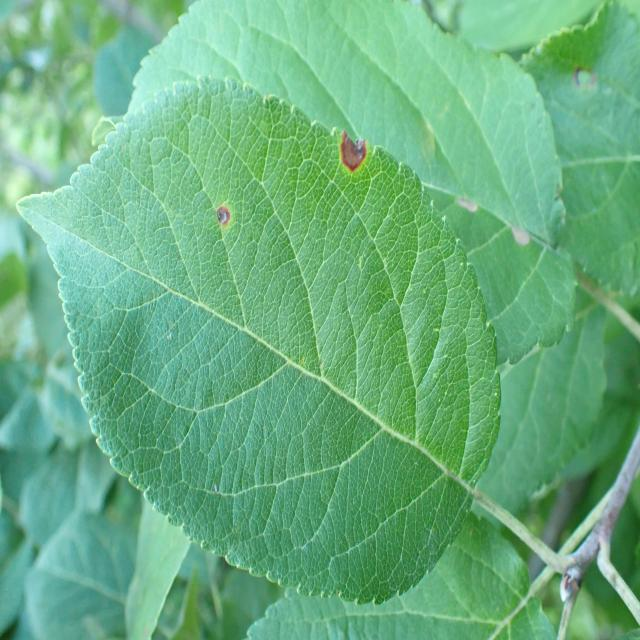frog-eye-leaf-spot: (14, 73, 502, 606)
